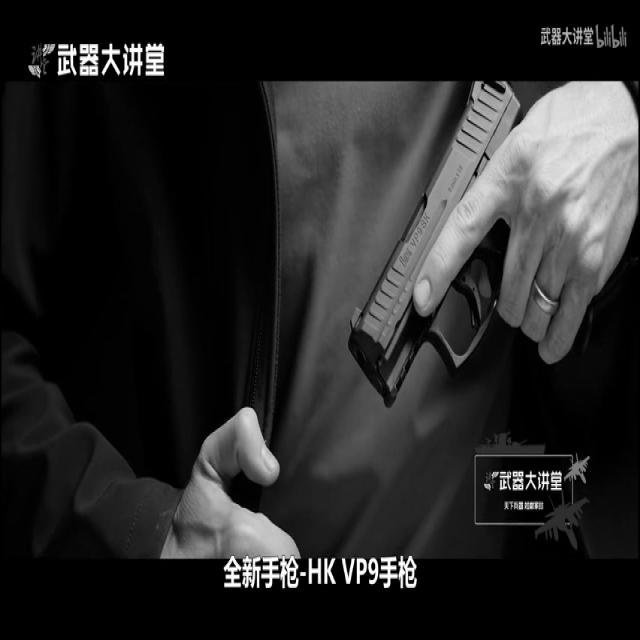Hand-Gun: (364, 48, 532, 407)
